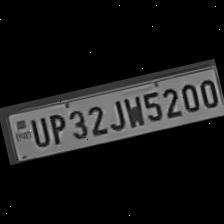0: (175, 80, 202, 116), (194, 76, 220, 110)
2: (81, 100, 109, 138), (158, 83, 182, 120)
3: (62, 104, 89, 142)
5: (138, 86, 164, 124)
J: (102, 96, 127, 133)
P: (43, 110, 69, 146)
U: (24, 114, 50, 150)
W: (119, 92, 145, 130)
